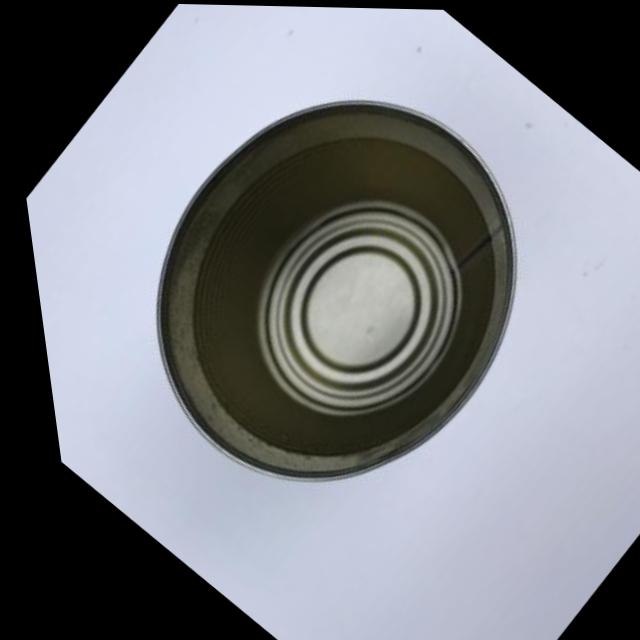metal: (13, 0, 640, 588)
